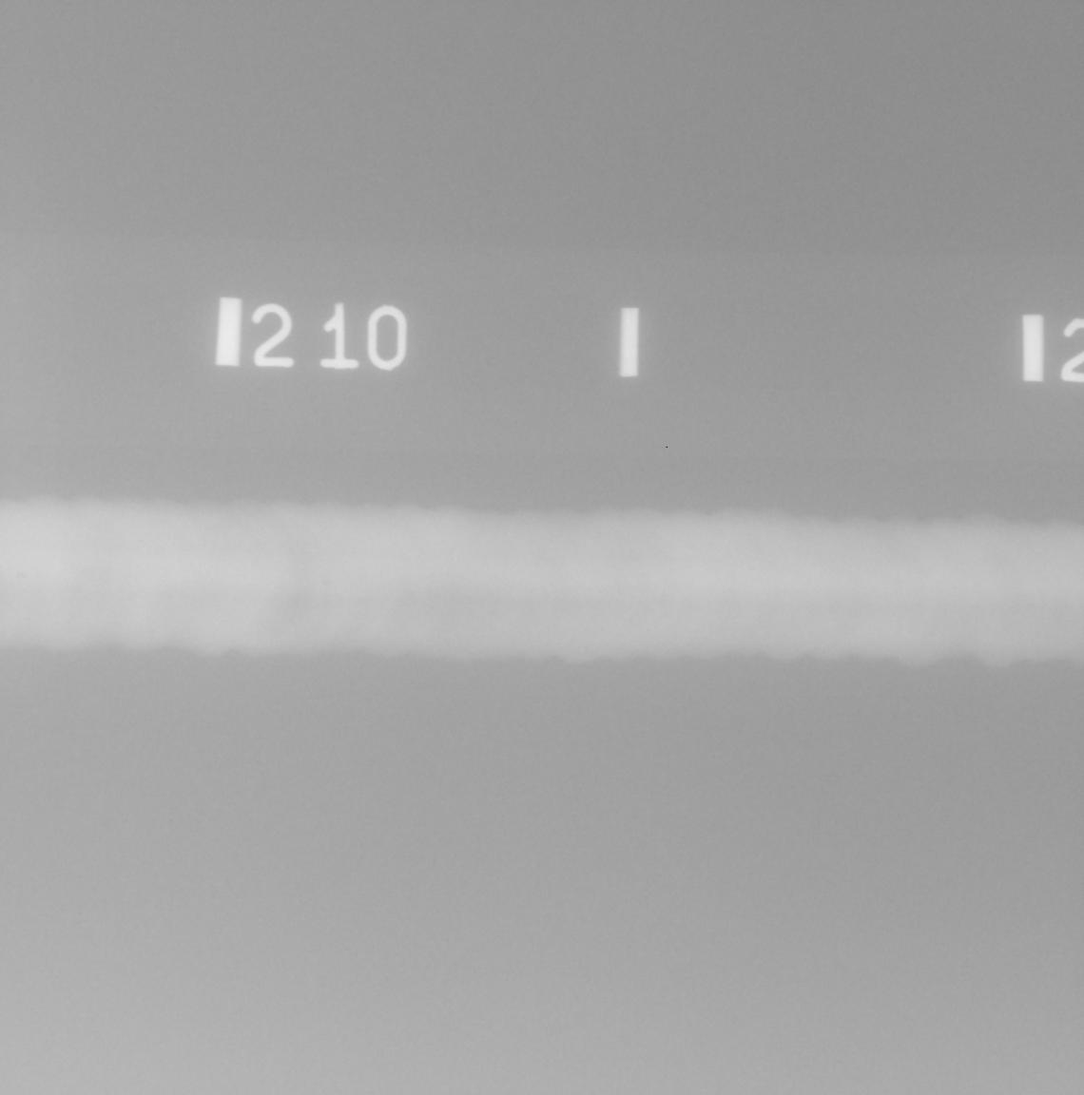Pore/Porosity: (17, 572, 26, 579), (322, 580, 331, 585), (808, 577, 812, 585), (0, 570, 4, 577)
